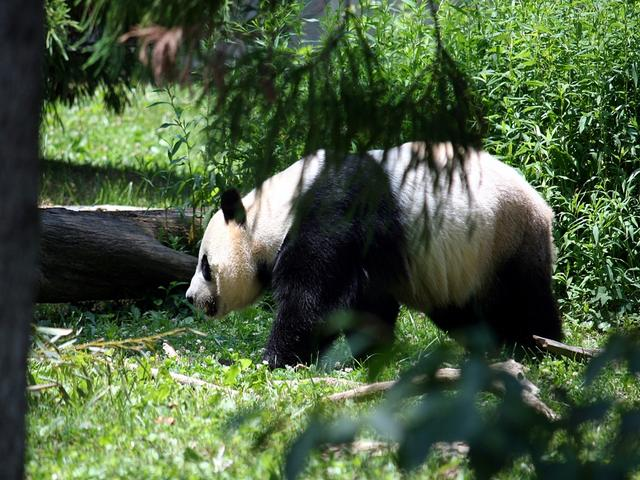panda: (162, 94, 618, 380)
